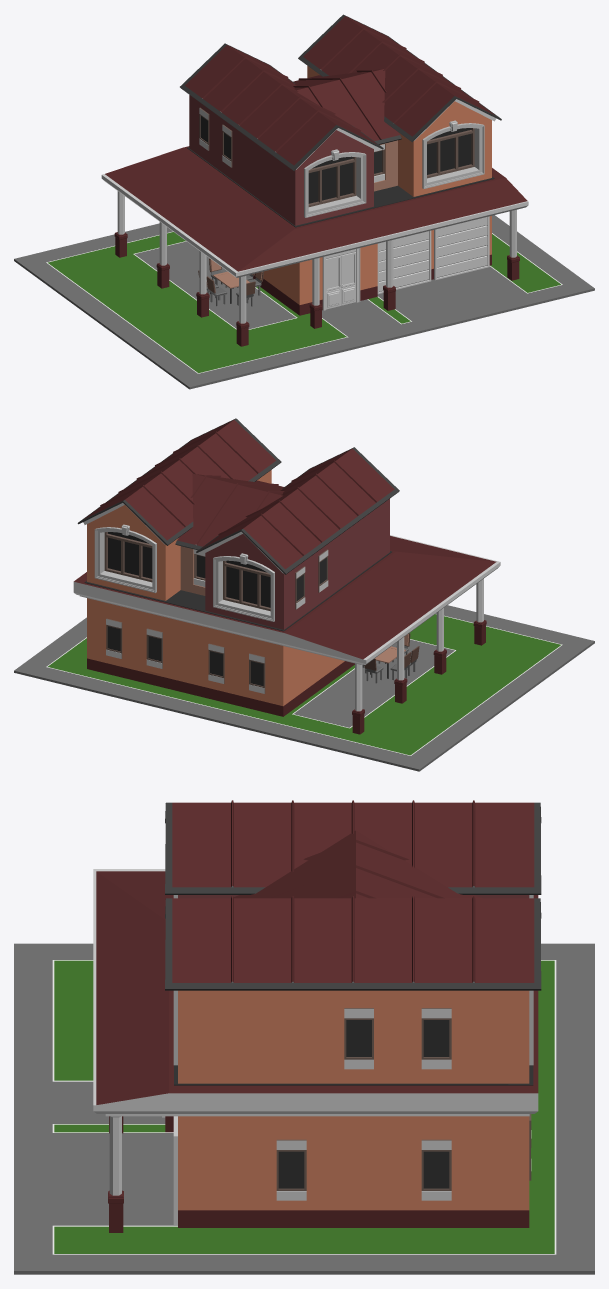
The model's file is house-06.glb.
The picture shows the model from 3 angles, top to bottom: view 1: azimuth 30°, elevation 25°; view 2: azimuth 150°, elevation 25°; view 3: azimuth 270°, elevation 25°; orthographic projection. The views are drawn at different scales.
Visible parts, largest first — view 1: house_06; view 2: house_06; view 3: house_06.
Part boxes in pixels (bbox=[...]): house_06: bbox=[14, 14, 594, 389]; house_06: bbox=[14, 418, 594, 771]; house_06: bbox=[14, 800, 594, 1274].
Size of the model in its own units: 20 by 8.66 by 15.
1 material, 1 textured.
